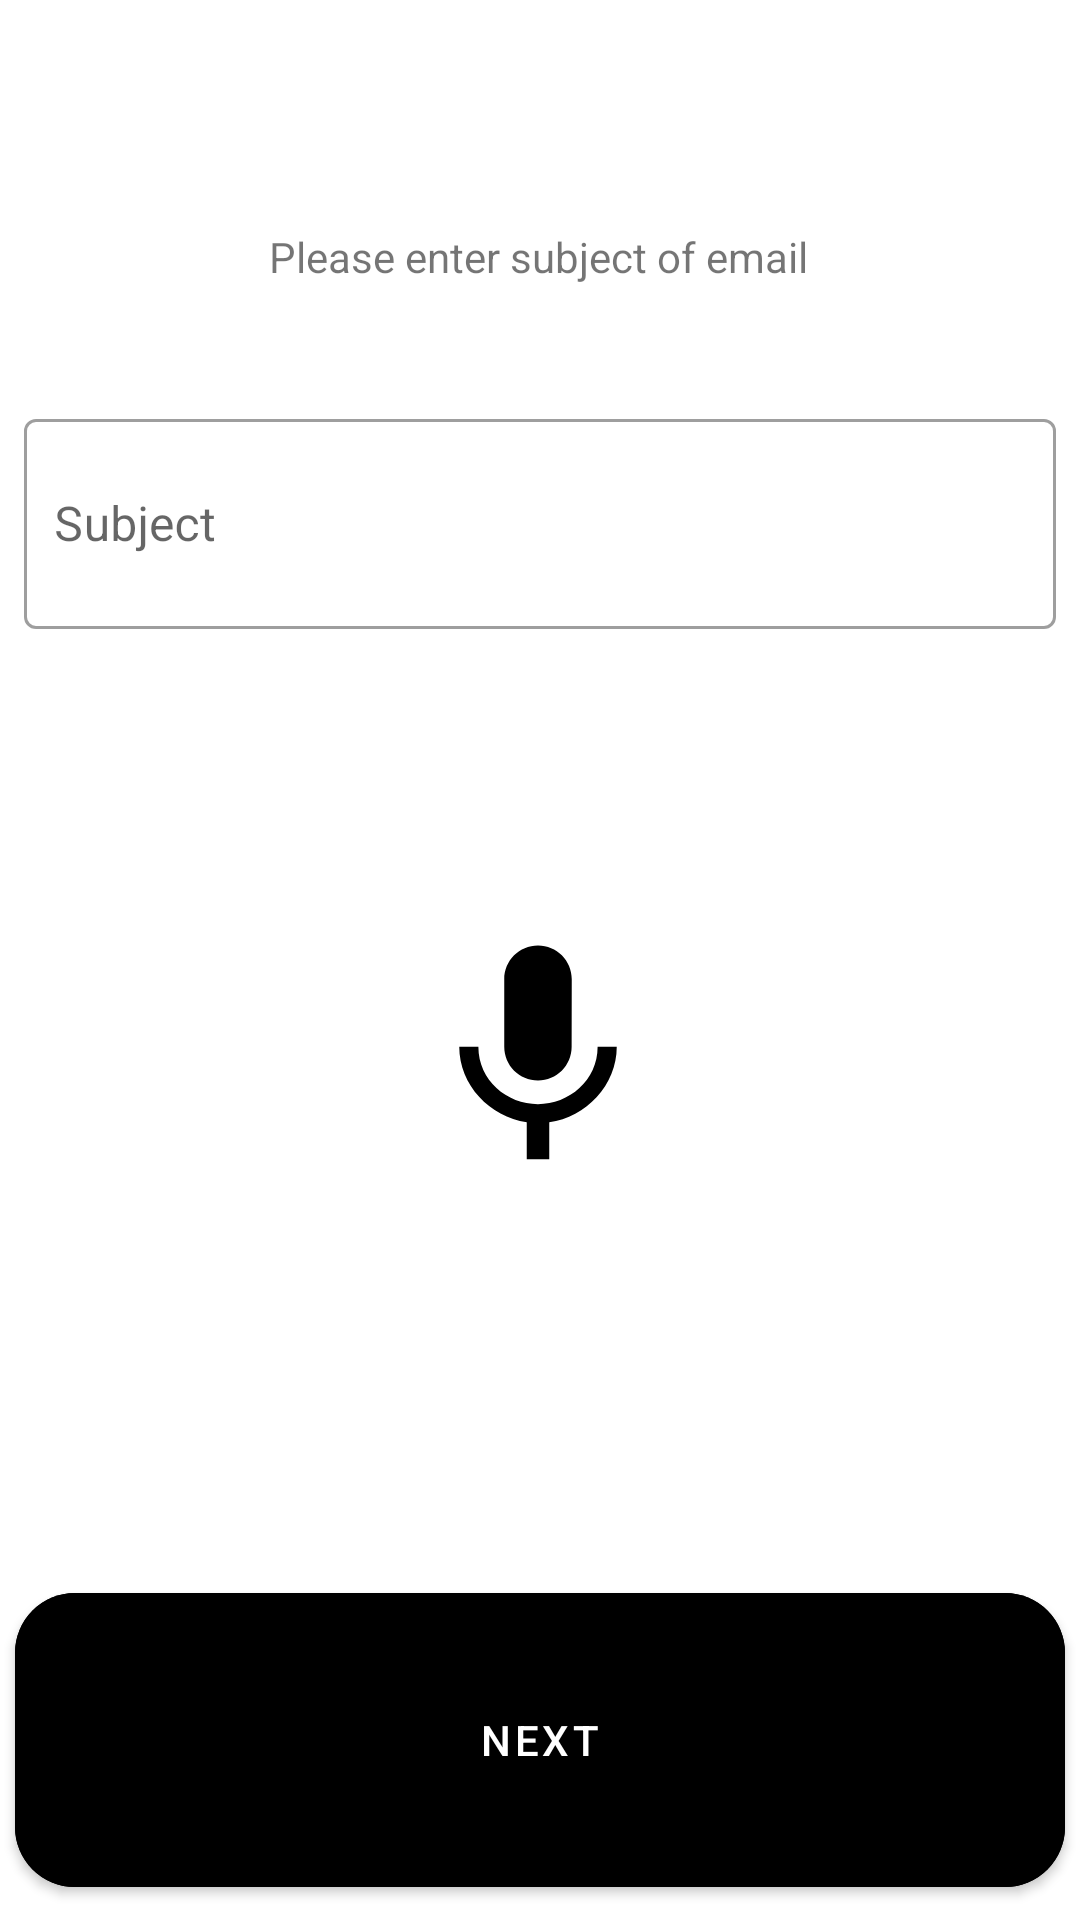

Named icons in this screenshot (1080x1920) and their bounding boxes, (x1, y1, x2, y2):
mic: (459, 945, 617, 1160)
